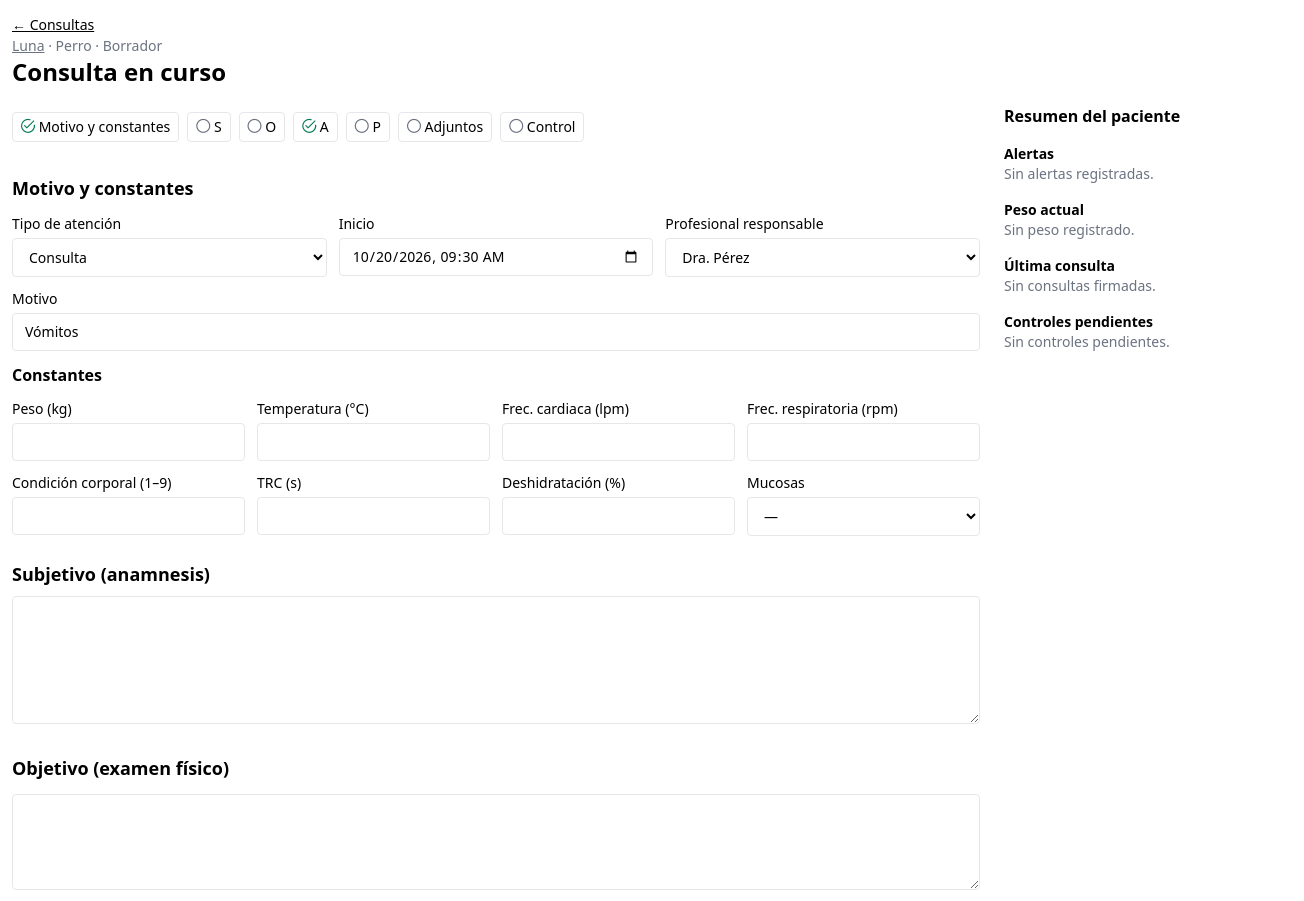
Scenario: EncounterEditorPage (FE-003/FE-004) › 409 detiene el autoguardado y ofrece diferencias y recarga
Replace the text in the field with test id "reason" with "Otro motivo". click: (496, 332)
box: [12,313,980,351]
Wait 5000 ms
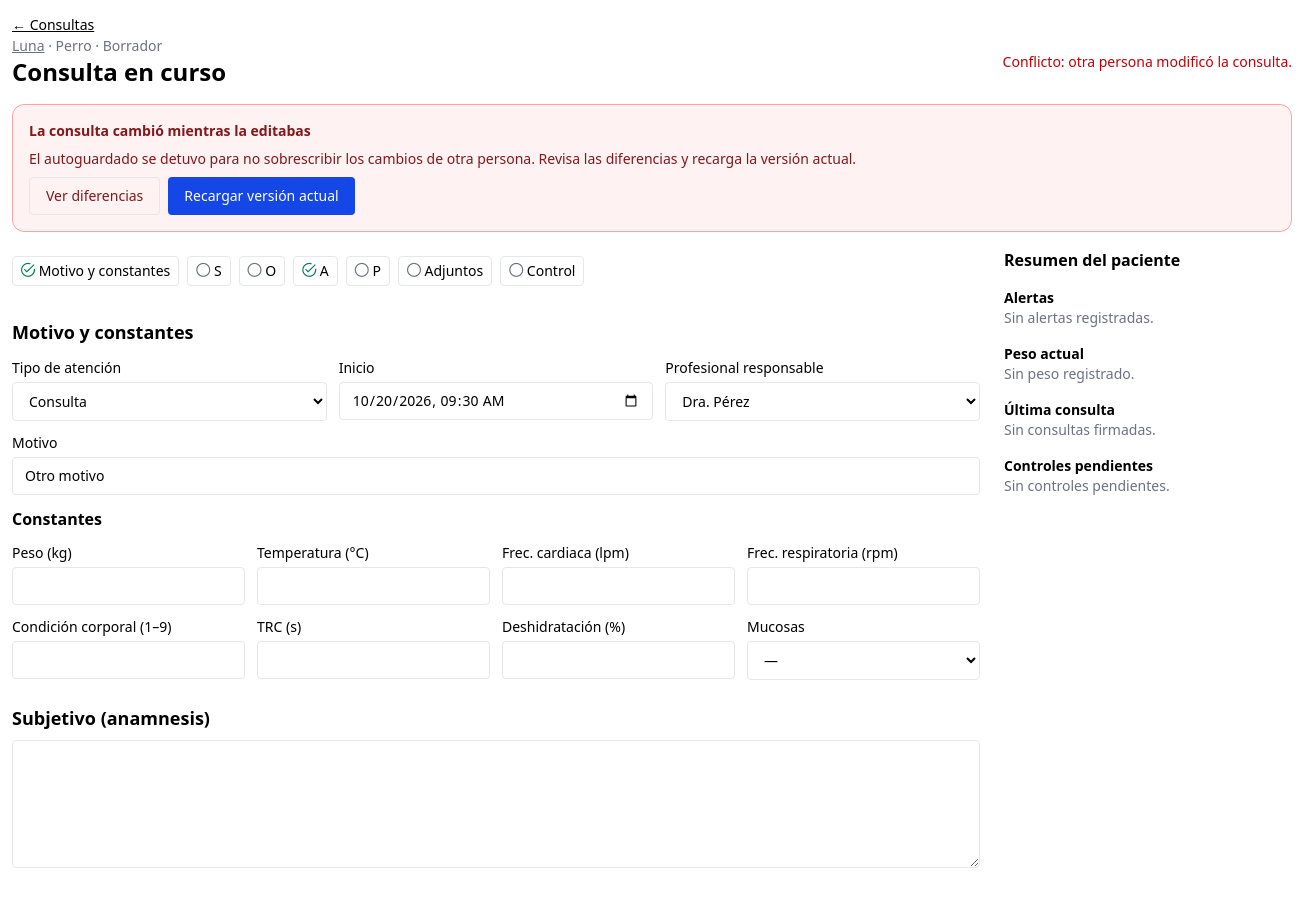
expect the message with test id "conflict" is shown: met, box [12,104,1292,232]
Click the button "Ver diferencias". click: click(95, 196)
box: [29,177,160,215]
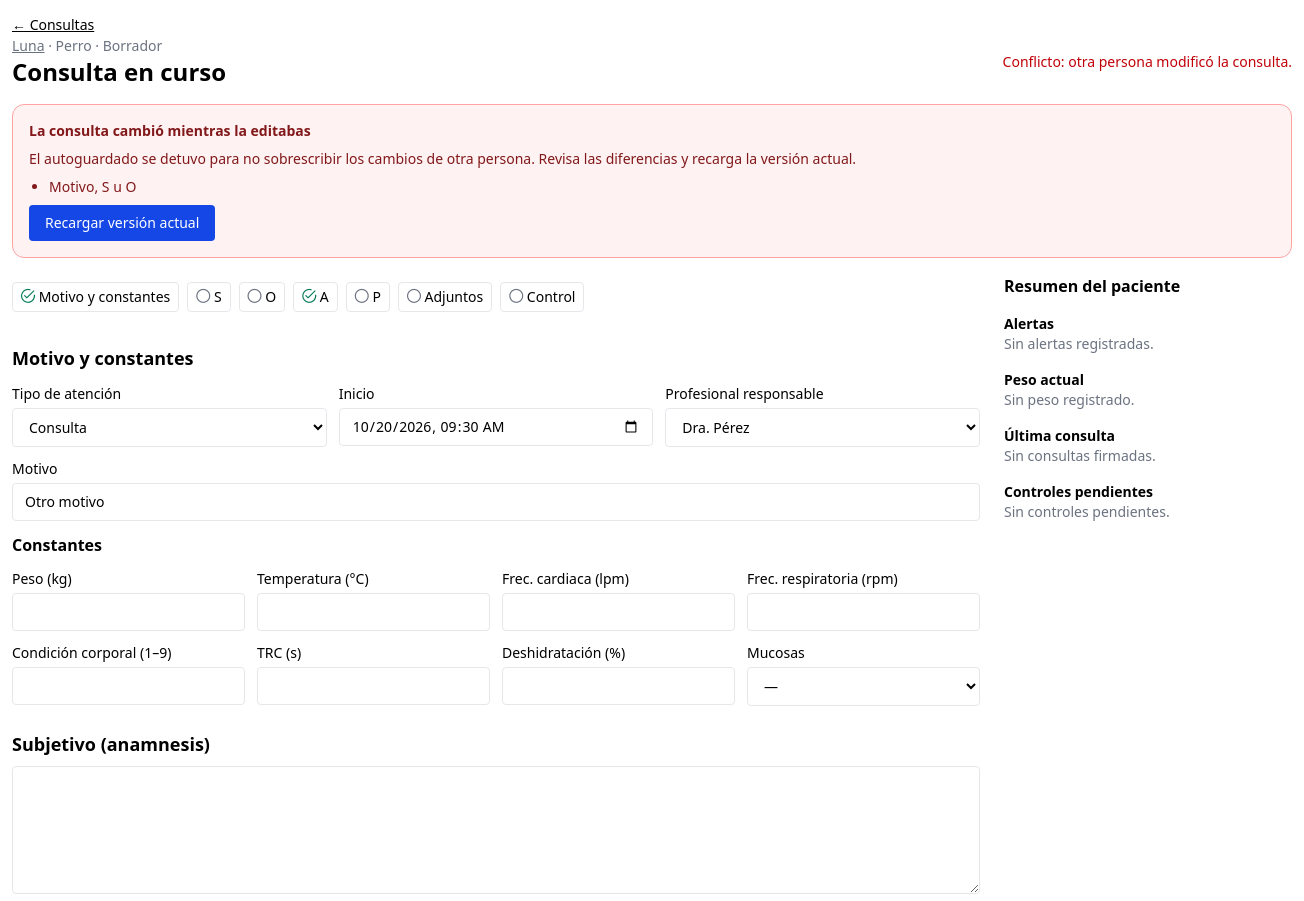
expect the list with test id "conflict-sections" shows "Motivo": met, box [49,177,136,196]
Click the button with test id "conflict-reload". click: click(122, 223)
box: [29,205,215,241]
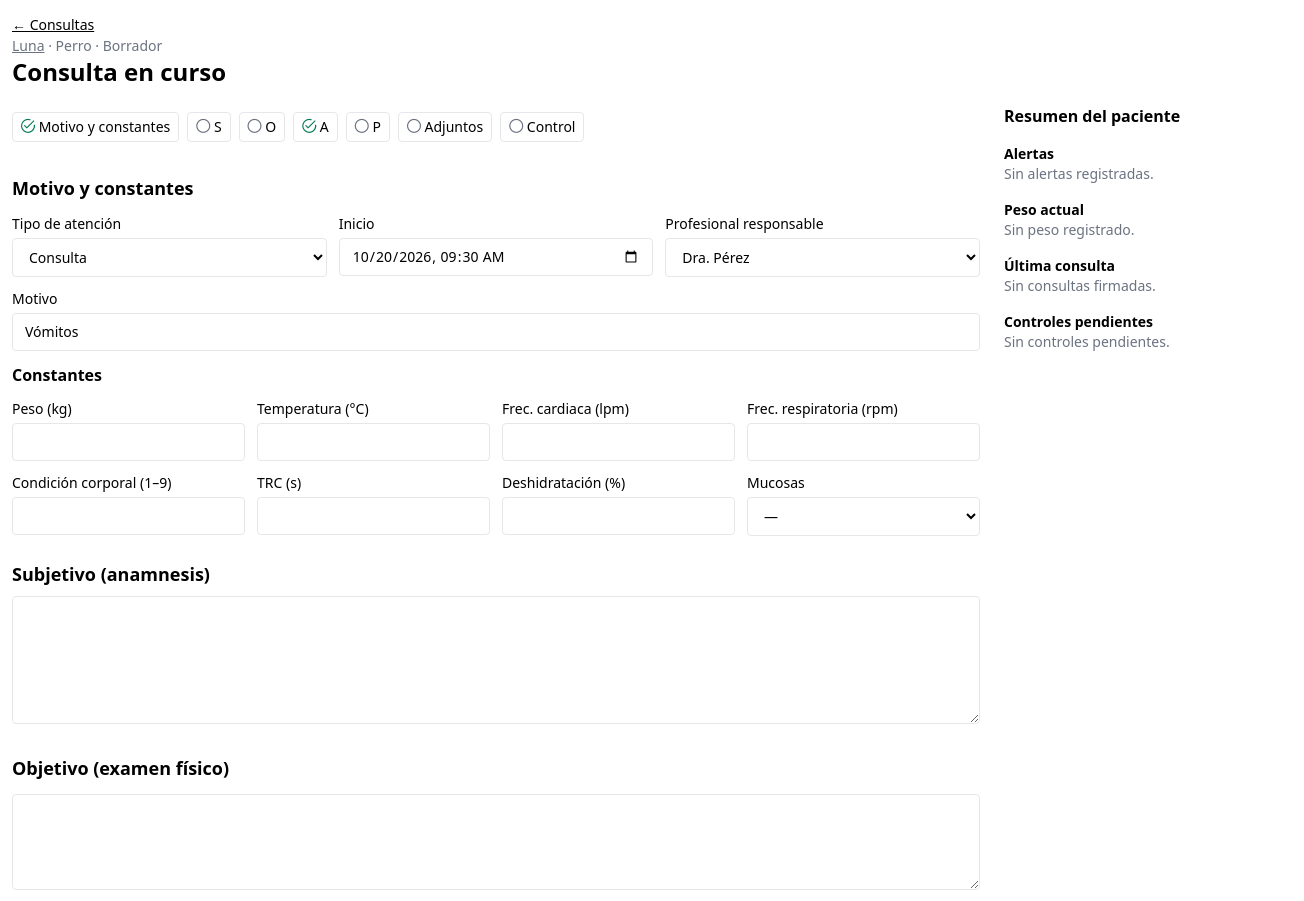
expect the field with test id "reason" holds "Vómitos": met, box [12,313,980,351]
